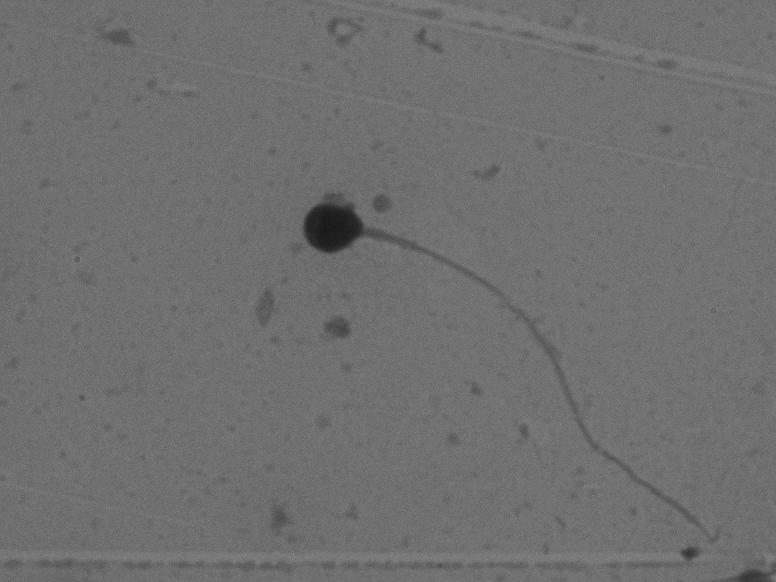Abnormal: (277, 152, 718, 536)
